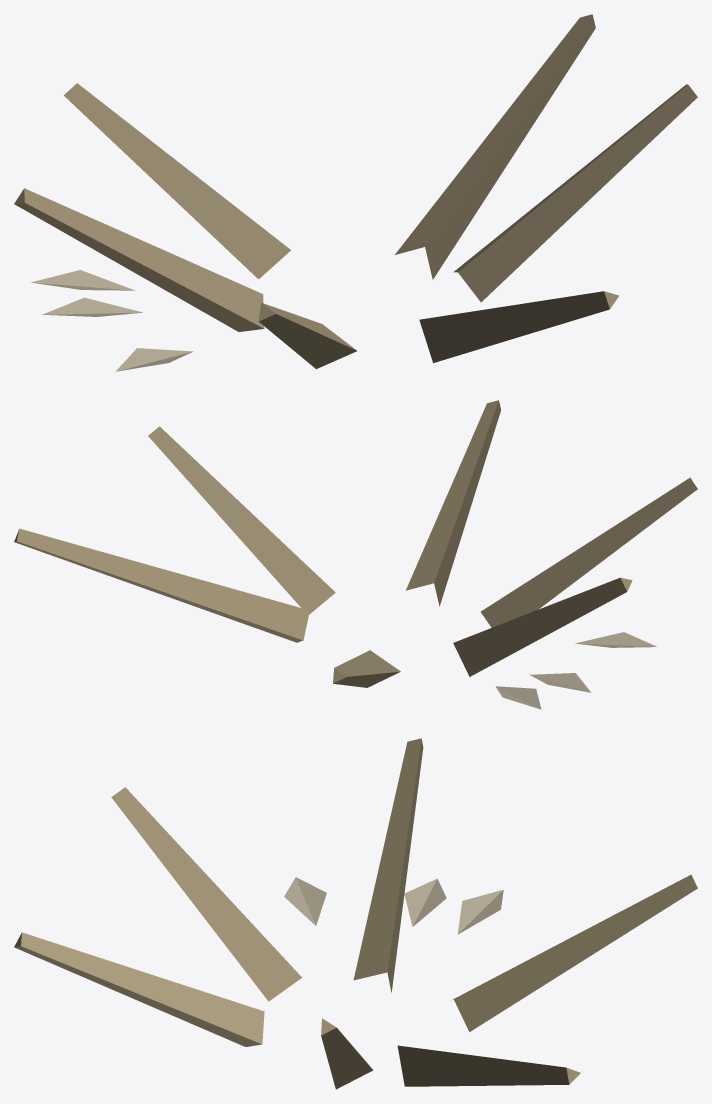
Rendered from guan.xuangouzi@withered__spring.glb.
3 renders of one model, top to bottom at view 1: azimuth 30°, elevation 25°; view 2: azimuth 150°, elevation 25°; view 3: azimuth 270°, elevation 25°, orthographic. The views are drawn at different scales.
Visible parts, largest first — view 1: guan.xuangouzi@withered__spring; view 2: guan.xuangouzi@withered__spring; view 3: guan.xuangouzi@withered__spring.
Boxes of the visible parts, <box> form: guan.xuangouzi@withered__spring: <box>14,14,697,371</box>; guan.xuangouzi@withered__spring: <box>14,400,697,709</box>; guan.xuangouzi@withered__spring: <box>14,738,697,1089</box>.
Bounding box in the file's own units: 0.9579 × 0.2532 × 0.9305.
